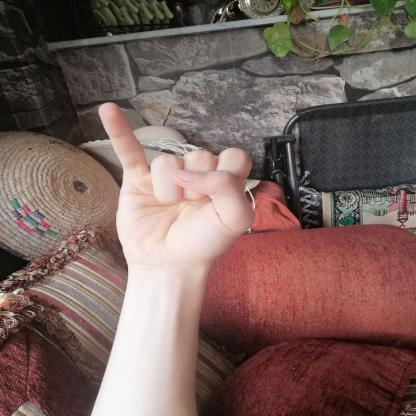MEEM: (79, 88, 268, 283)
